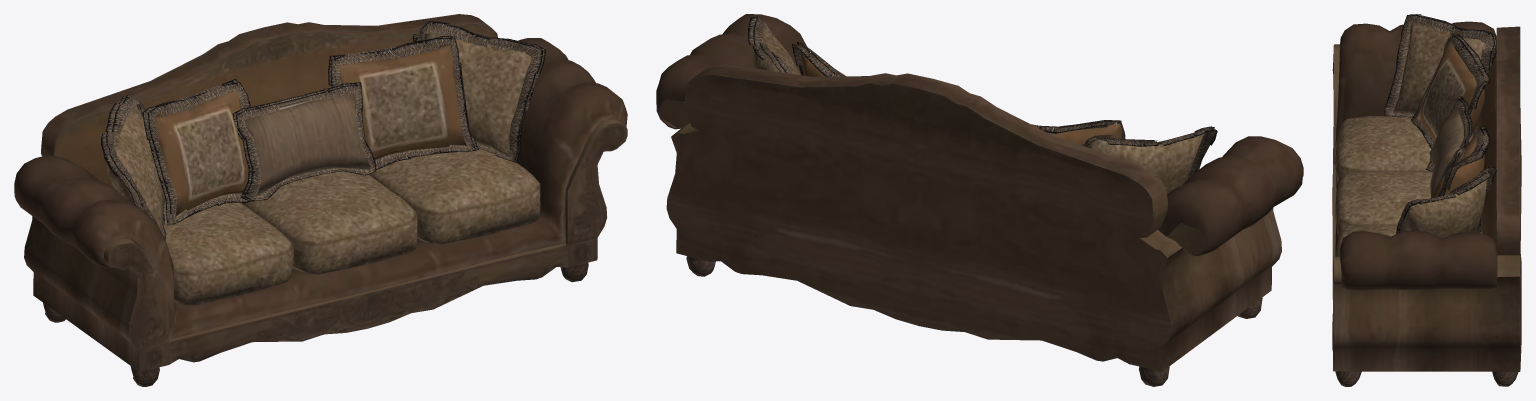
File: ph-sofa_03.glb
3 renders of one model, left to right at view 1: azimuth 30°, elevation 25°; view 2: azimuth 150°, elevation 25°; view 3: azimuth 270°, elevation 25°, orthographic. The views are drawn at different scales.
Visible parts, largest first — view 1: sofa_03; view 2: sofa_03; view 3: sofa_03.
Boxes of the visible parts, x1,y1,x2,y2 form: sofa_03: (14, 14, 627, 386); sofa_03: (656, 14, 1303, 386); sofa_03: (1332, 14, 1521, 386).
Size of the model in its own units: 2.73 by 1.12 by 0.925.
Materials: 2 (2 with a texture image).
